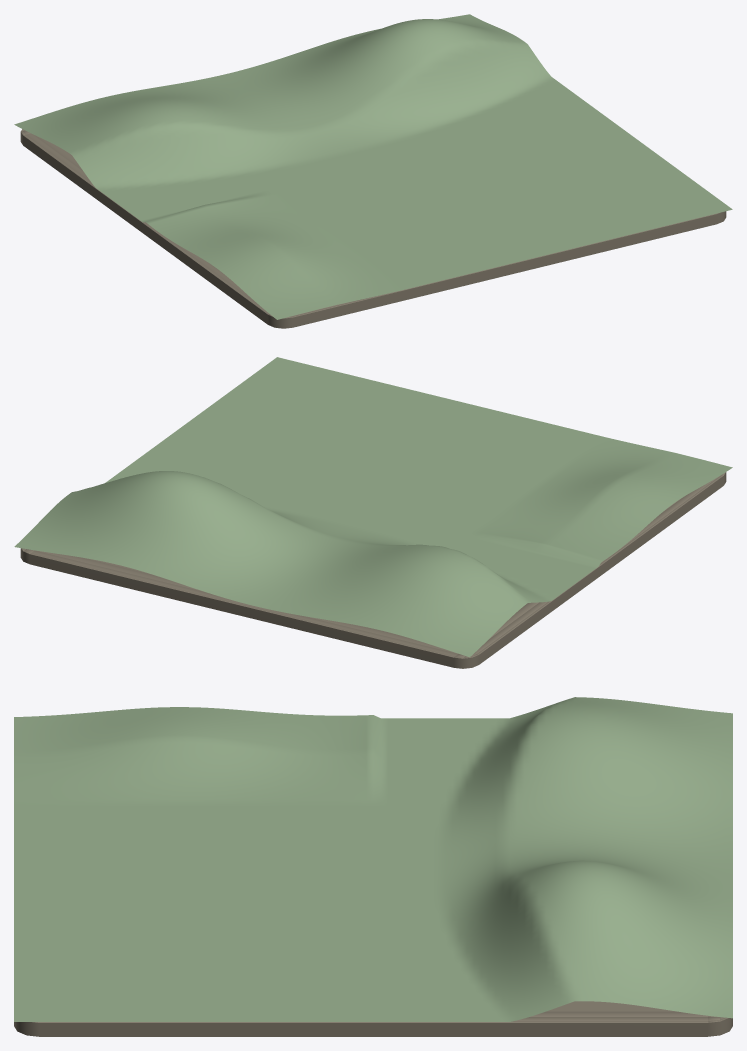
The model's file is SM_Terrain.fbx.
3 views of the same model, one above another, from view 1: azimuth 30°, elevation 25°; view 2: azimuth 150°, elevation 25°; view 3: azimuth 270°, elevation 25° (orthographic). The views are drawn at different scales.
Visible parts, largest first — view 1: SM_Terrain; view 2: SM_Terrain; view 3: SM_Terrain.
Boxes of the visible parts, x1,y1,x2,y2 form: SM_Terrain: (14, 14, 732, 328); SM_Terrain: (14, 357, 732, 668); SM_Terrain: (14, 697, 732, 1036).
Size of the model in its own units: 10000 by 10000 by 1435.
